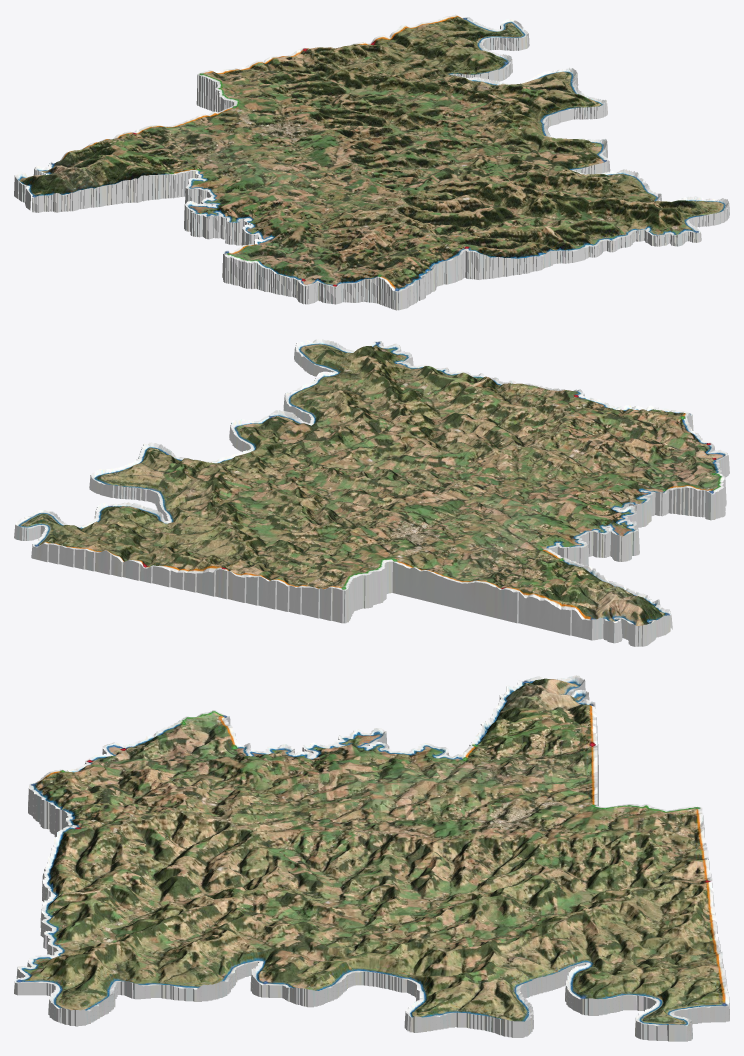
The picture shows the model from 3 angles, top to bottom: view 1: azimuth 30°, elevation 25°; view 2: azimuth 150°, elevation 25°; view 3: azimuth 270°, elevation 25°; orthographic projection. The views are drawn at different scales.
Bounding box in the file's own units: 0.9999 × 0.0546 × 0.8812.
Materials: 1 (1 with a texture image).
